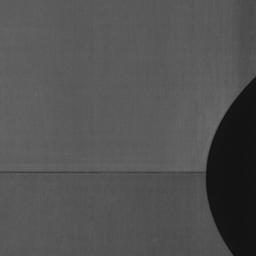Crescent gap: (206, 78, 256, 256)
